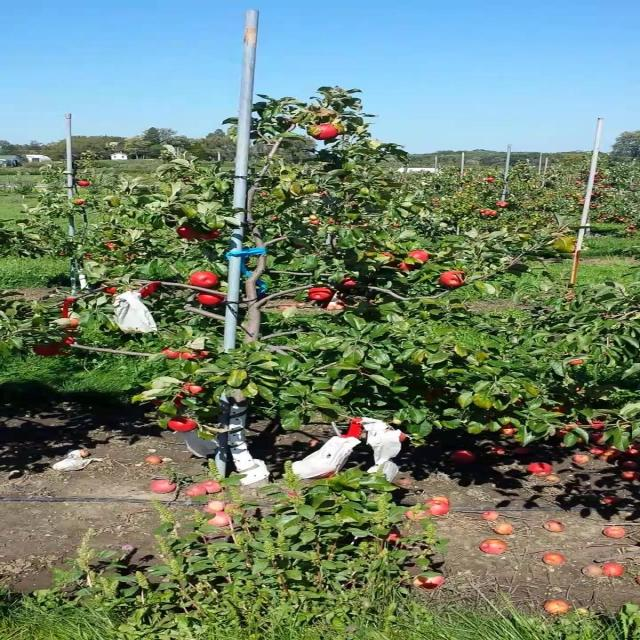apple: (312, 124, 341, 140), (191, 272, 220, 288), (156, 392, 185, 408), (440, 272, 468, 288), (198, 292, 226, 306), (170, 420, 199, 432), (554, 424, 581, 436), (35, 344, 57, 356), (177, 228, 199, 240), (312, 288, 334, 300), (184, 384, 206, 396), (184, 352, 212, 361), (540, 404, 567, 413), (412, 252, 430, 264), (163, 348, 180, 360), (141, 284, 156, 297), (504, 424, 519, 436), (589, 432, 604, 444), (312, 472, 334, 480), (198, 232, 220, 240), (397, 264, 418, 272), (589, 420, 604, 430), (383, 256, 398, 266), (426, 392, 439, 403), (340, 280, 357, 288), (397, 432, 407, 443), (106, 288, 119, 295), (63, 340, 76, 347), (568, 360, 583, 365), (70, 320, 78, 328)
